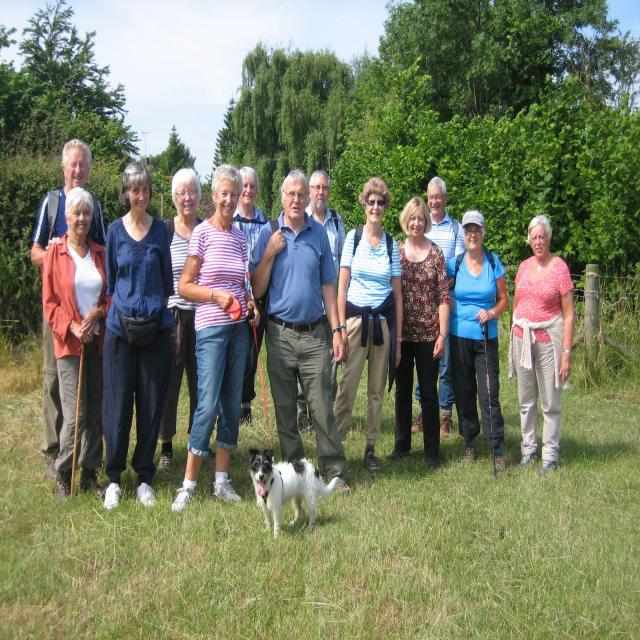body: (246, 166, 355, 500), (169, 162, 262, 514), (99, 158, 177, 513), (29, 136, 109, 482), (40, 185, 117, 505), (331, 175, 405, 477), (154, 166, 218, 474), (383, 194, 451, 474), (506, 211, 576, 478), (444, 210, 508, 472), (405, 174, 468, 440), (294, 167, 349, 436), (230, 165, 270, 428)
